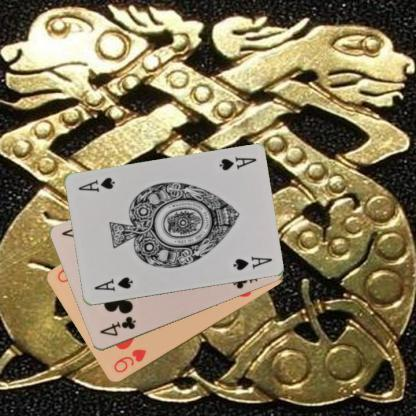4c: (97, 314, 138, 338)
9h: (111, 346, 148, 374)
As: (91, 274, 134, 292), (216, 154, 258, 172)
